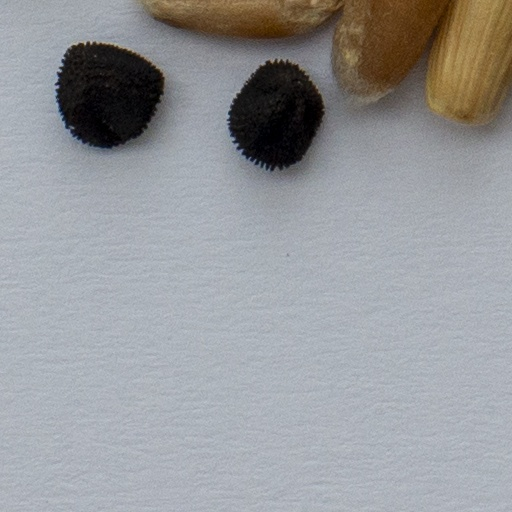Peel-poly: (427, 0, 511, 123)
